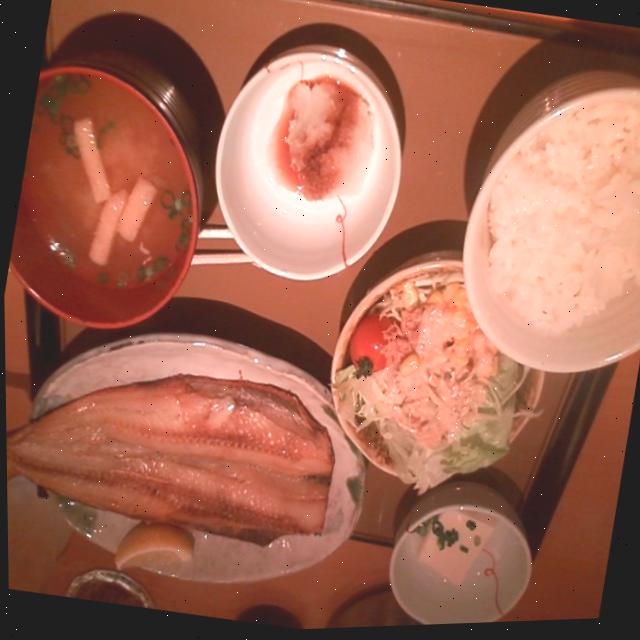汤锅炖物: (1, 53, 218, 332)
米饭主食: (466, 78, 640, 363)
蔬菜料理: (305, 233, 554, 515)
豆腐料理: (400, 500, 511, 619)
